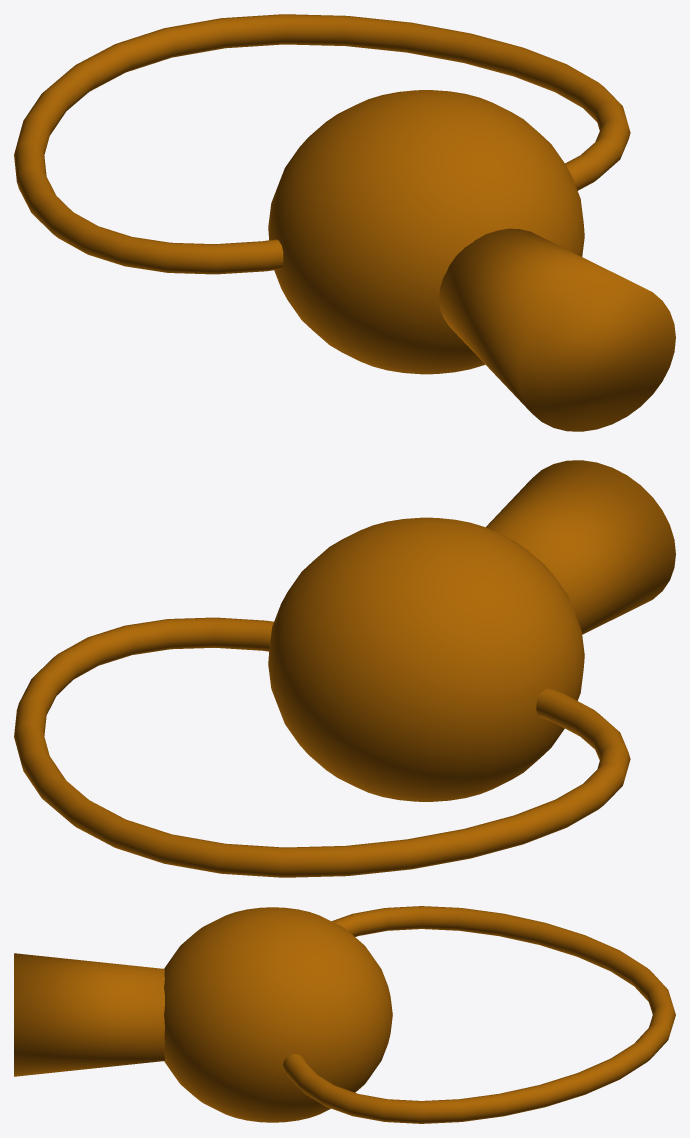
File: Compass-Deco.glb
3 renders of one model, top to bottom at view 1: azimuth 30°, elevation 25°; view 2: azimuth 150°, elevation 25°; view 3: azimuth 270°, elevation 25°, orthographic. The views are drawn at different scales.
Parts seen in each view (by area): view 1: Circle; view 2: Circle; view 3: Circle.
Part boxes in pixels (x1,y1,x2,y2): Circle: (14,14,675,431); Circle: (14,460,675,877); Circle: (14,906,675,1123).
Bounding box in the file's own units: 0.4623 × 0.2013 × 0.6318.
